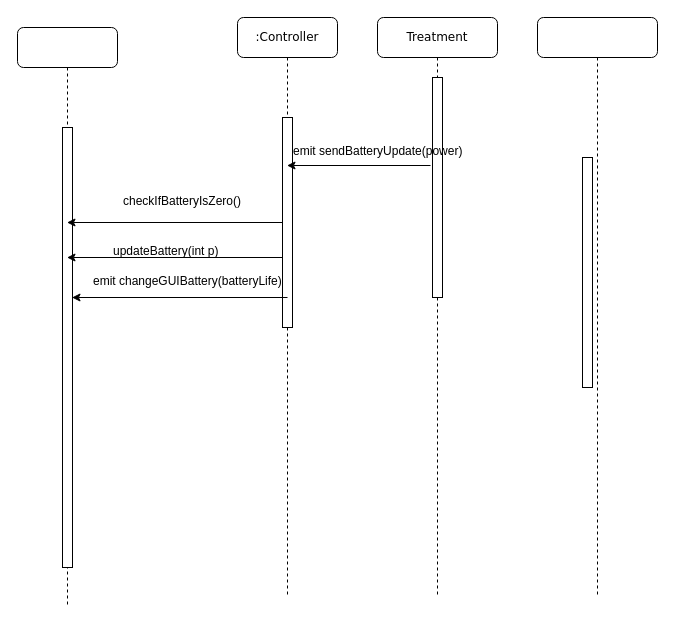
Image size: 675x625. Some labels were removed from this diagram. Here are the shapes that lost their labels. From the top down, the box of each, then its label:
(16, 26, 118, 608): :GUI
(536, 16, 658, 598): :AllergyTreatment
